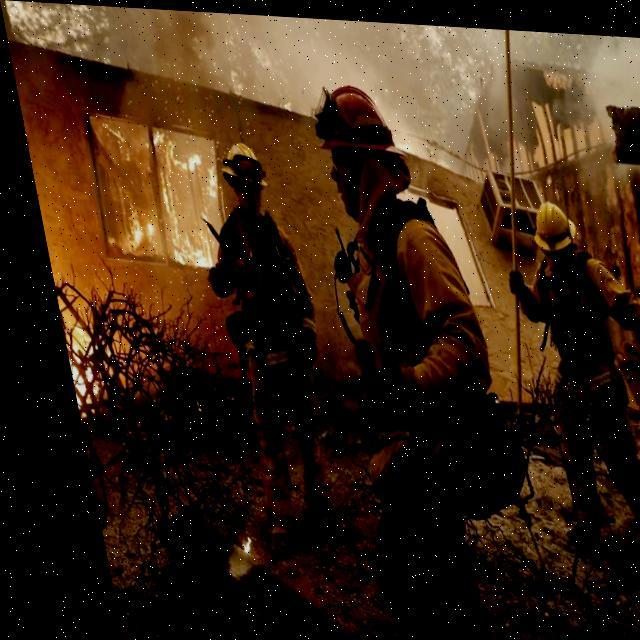Fire: (80, 115, 224, 268), (49, 320, 90, 416), (211, 528, 239, 560)
